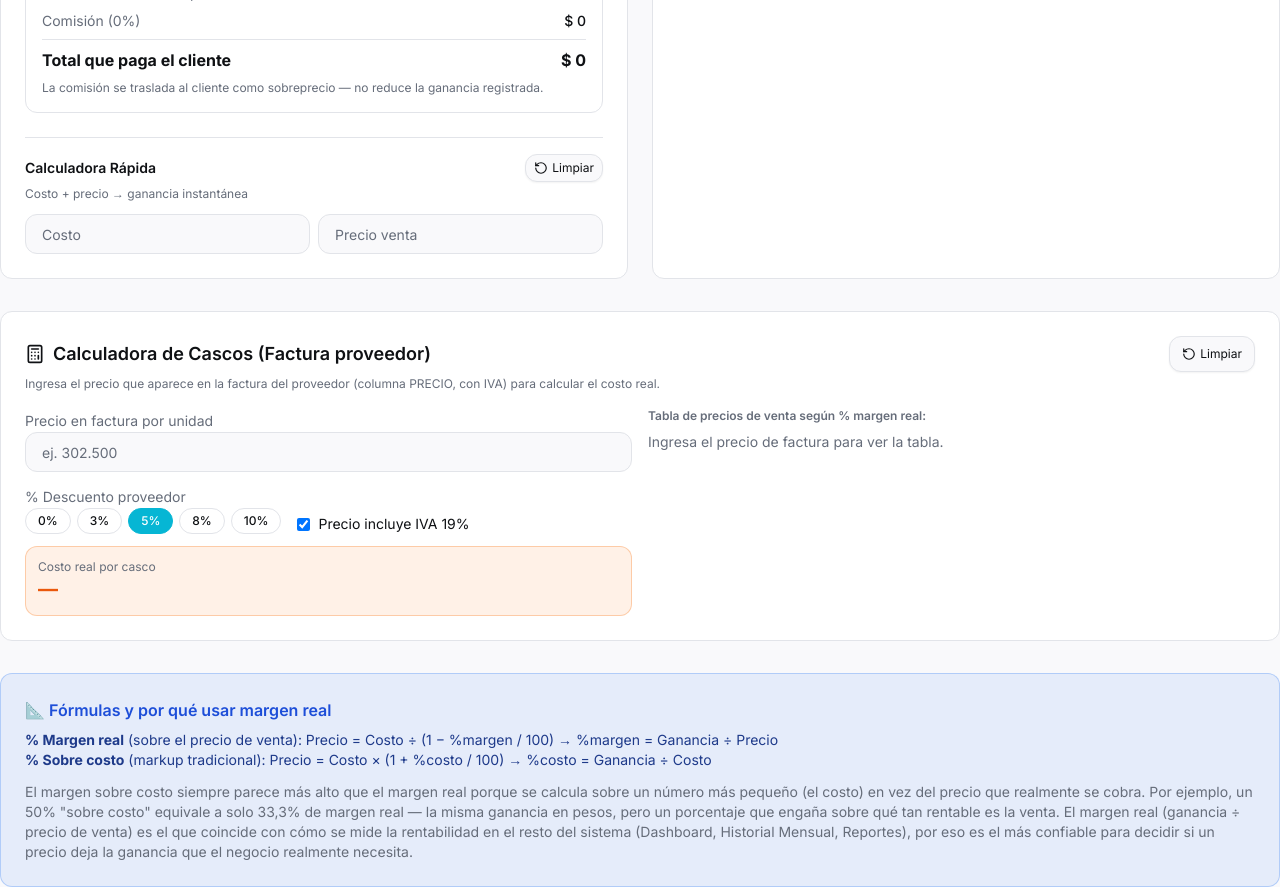
Test: Calculadora — Calculadora de Cascos (factura proveedor) › calcula el costo real quitando IVA y aplicando el descuento del proveedor
(page scrolled)
Type "302500" into the field with placeholder "ej. 302.500" at coordinates (328, 452), box 25,432 -> 632,472
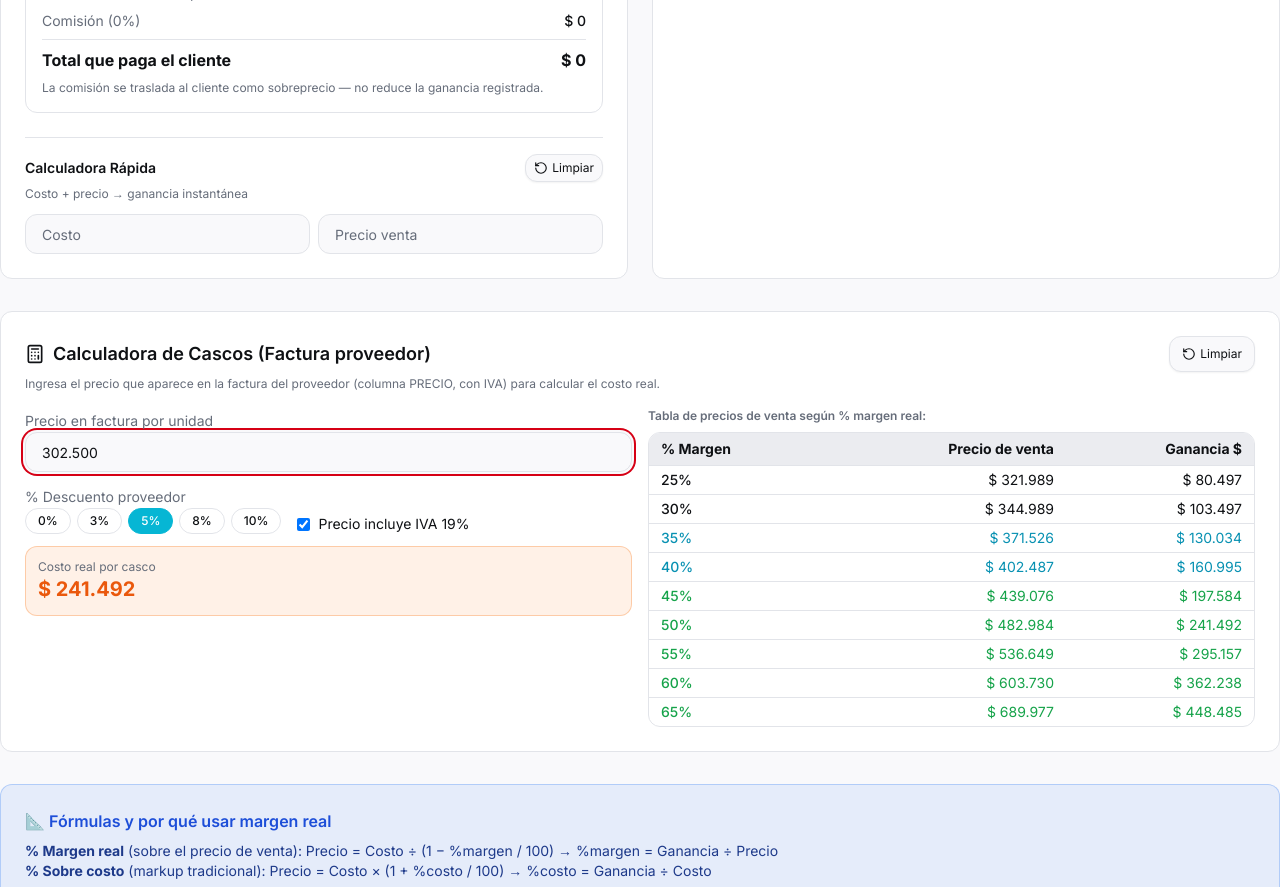
Check: the text "$ 241.492" is shown, box 38,577 -> 135,601
Check: the text "$ 371.526" is shown, box 824,524 -> 1066,552
